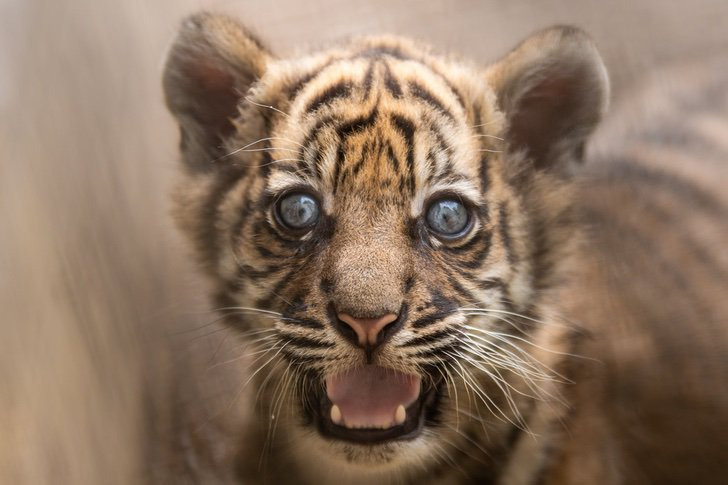Tigrew: (149, 12, 636, 471)
